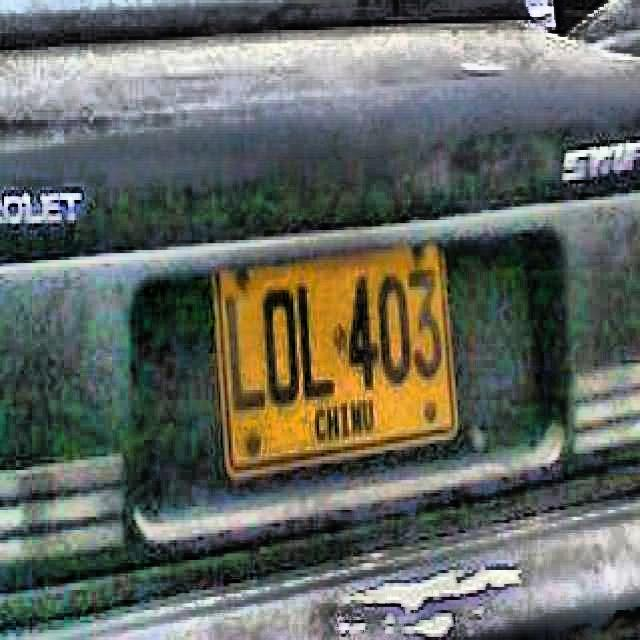plate: (214, 246, 457, 474)
